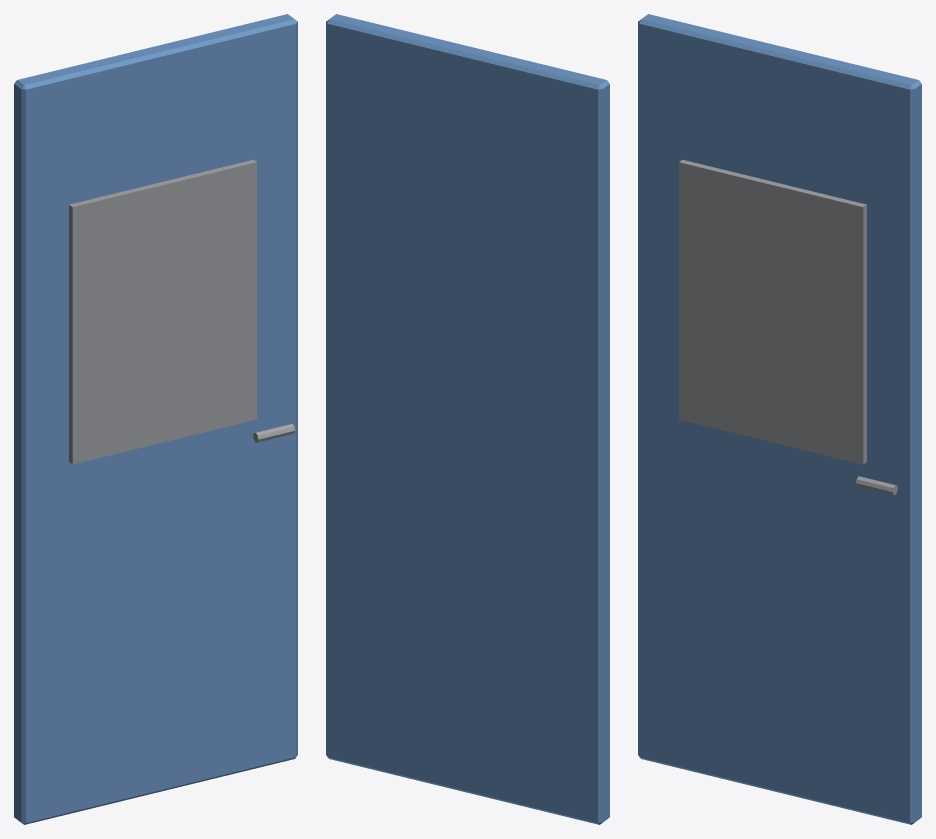
Rendered from door.glb.
3 renders of one model, left to right at view 1: azimuth 30°, elevation 25°; view 2: azimuth 150°, elevation 25°; view 3: azimuth 330°, elevation 25°, orthographic.
Parts seen in each view (by area): view 1: door; view 2: door; view 3: door.
Part boxes in pixels (left/top/right/bottom): door: left=14, top=14, right=297, bottom=824; door: left=326, top=14, right=609, bottom=824; door: left=638, top=14, right=921, bottom=824.
Size of what is drawn, in the model's own units: 0.9 by 2.3 by 0.105.
